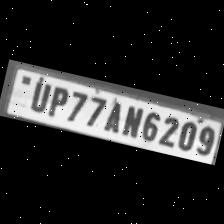0: (174, 116, 200, 151)
2: (156, 111, 181, 146)
6: (136, 106, 162, 142)
7: (62, 87, 89, 124), (82, 92, 108, 128)
9: (192, 121, 218, 156)
A: (100, 97, 126, 133)
N: (118, 101, 144, 138)
P: (43, 82, 70, 119)
U: (25, 77, 52, 113)
